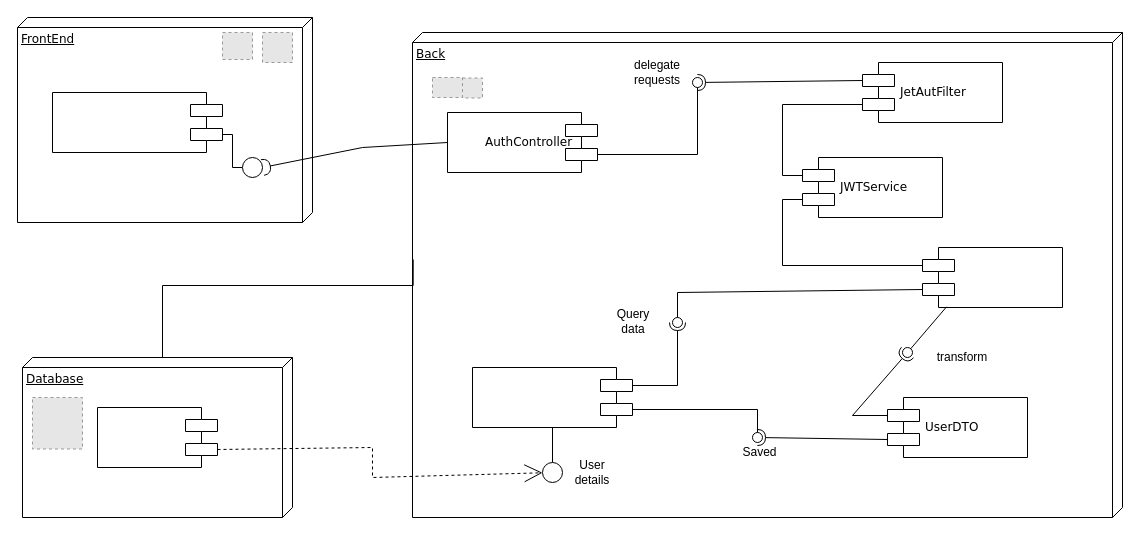
The diagram is 1140 pixels wide and 535 high, and some of its shapes have lost their labels. Grey dashed boxes stand in for pictures. The centre of each missing label's shape, as x and y in pixels:
Authentification: the point at 137,122
AuthRepository: the point at 552,397
AuthService: the point at 992,277
Users: the point at 157,437
